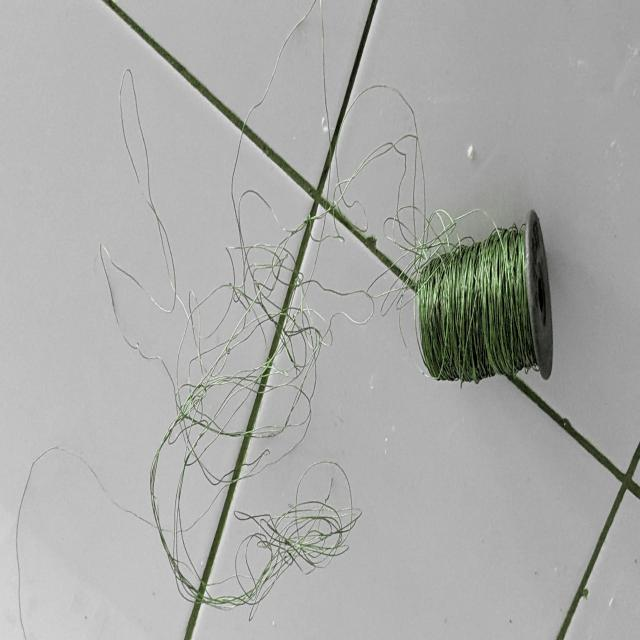Wire Coil: (412, 207, 564, 391)
